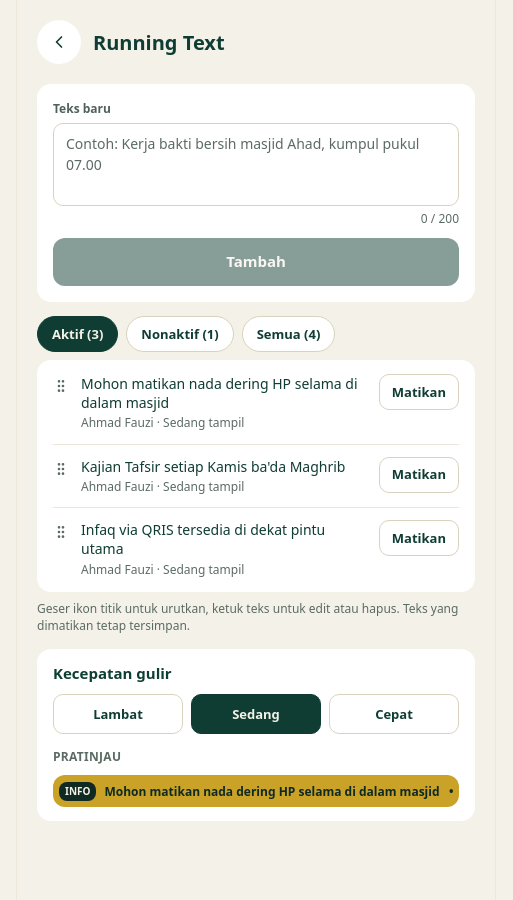
Test: RunningTextsPage › turns a text on and off, keeping the row until the filter changes
Click the button with aria-label "Matikan: Kajian Tafsir": (419, 475) left=379, top=457, right=459, bottom=493
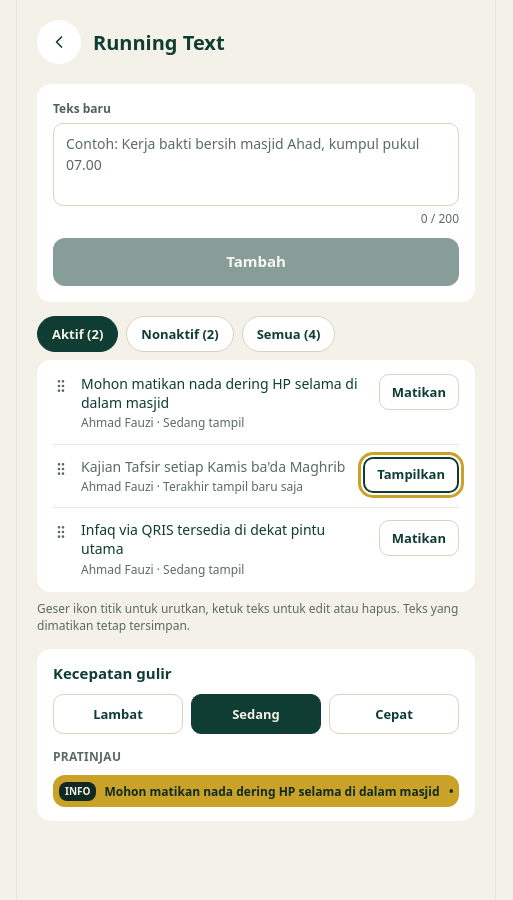
Expected: the button with aria-label "Tampilkan: Kajian Tafsir" is shown, left=363, top=457, right=459, bottom=493
Expected: the text "Ahmad Fauzi · Terakhir tampil baru saja" is shown, left=81, top=478, right=303, bottom=495
Click the button "Nonaktif (2)": (180, 334) left=126, top=316, right=234, bottom=352
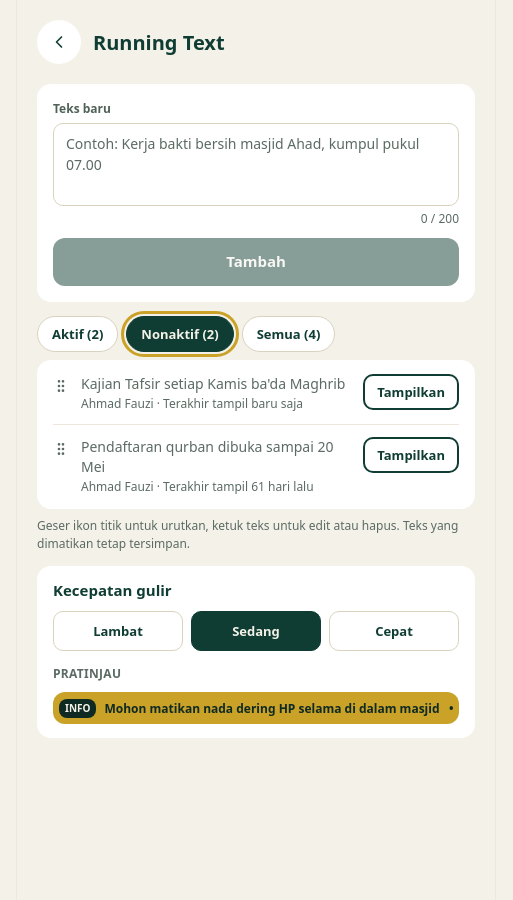
Click the button with aria-label "Tampilkan: Pendaftaran qurban": (411, 455) left=363, top=437, right=459, bottom=473
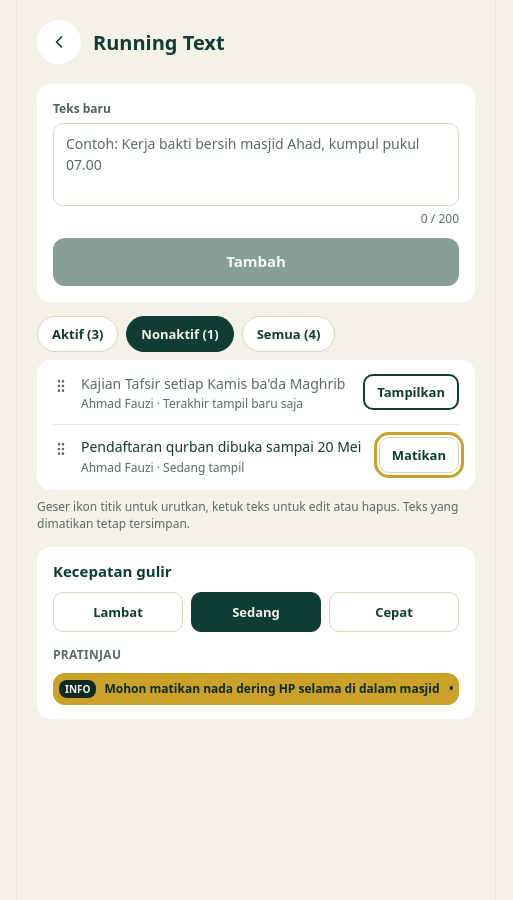
Expected: the button with aria-label "Matikan: Pendaftaran qurban" is shown, left=379, top=437, right=459, bottom=473
Click the button "Aktif (3)": (78, 334) left=37, top=316, right=118, bottom=352
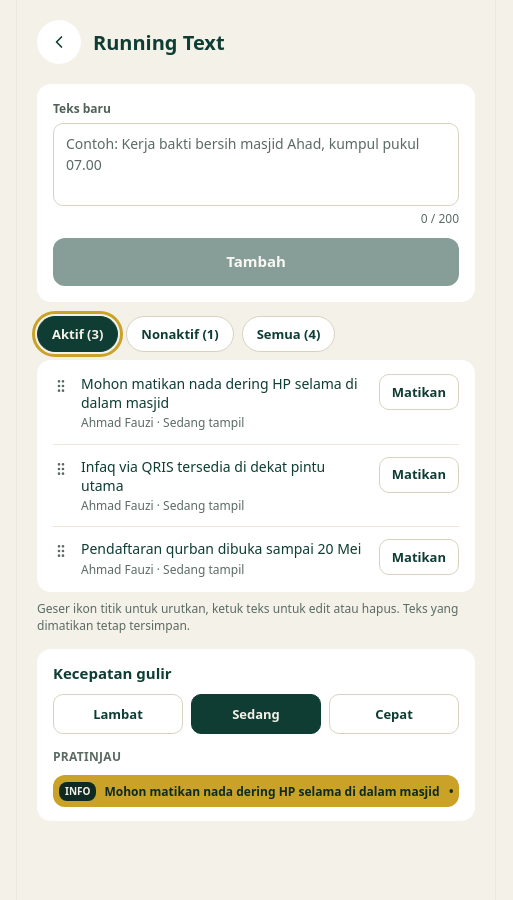
Expected: the button "Kajian Tafsir setiap Kamis ba'da Maghrib" no longer shows "Kajian Tafsir setiap Kamis ba'da Maghrib"
